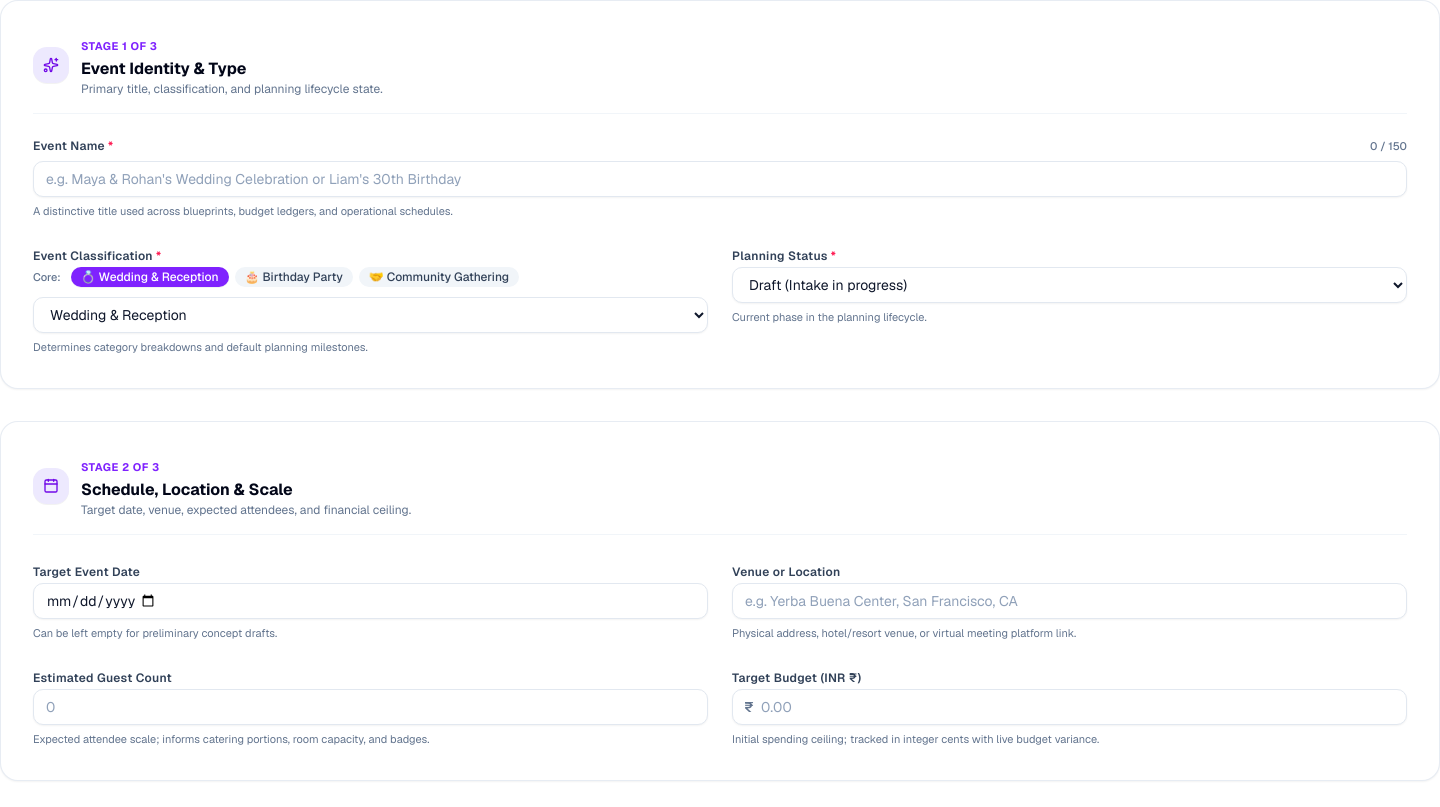
Test: EventForm Component › Interactive User Input & State Transitions › reveals custom event type input when 'other' is selected and hides when reverted
expect the field labelled "Custom Event Type Description" is not shown: met
Step 1. Select "Other / Custom" in the dropdown labelled "Event Classification *" → (370, 315), box x1=33 y1=297 x2=708 y2=333
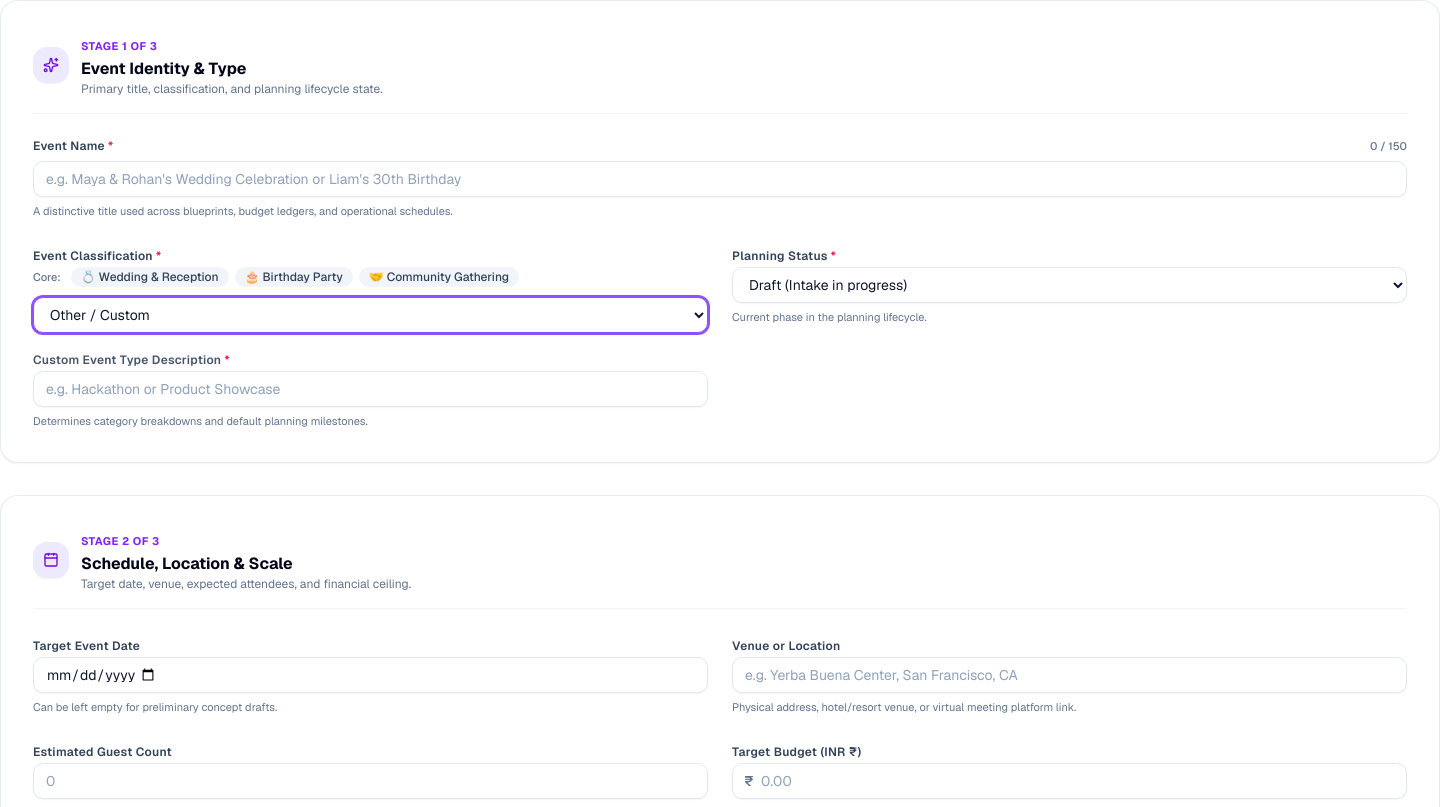
expect the field labelled "Custom Event Type Description *" is shown: met
Step 2. Type "Esports Tournament" into the field labelled "Custom Event Type Description *" → (370, 389), box x1=33 y1=371 x2=708 y2=407
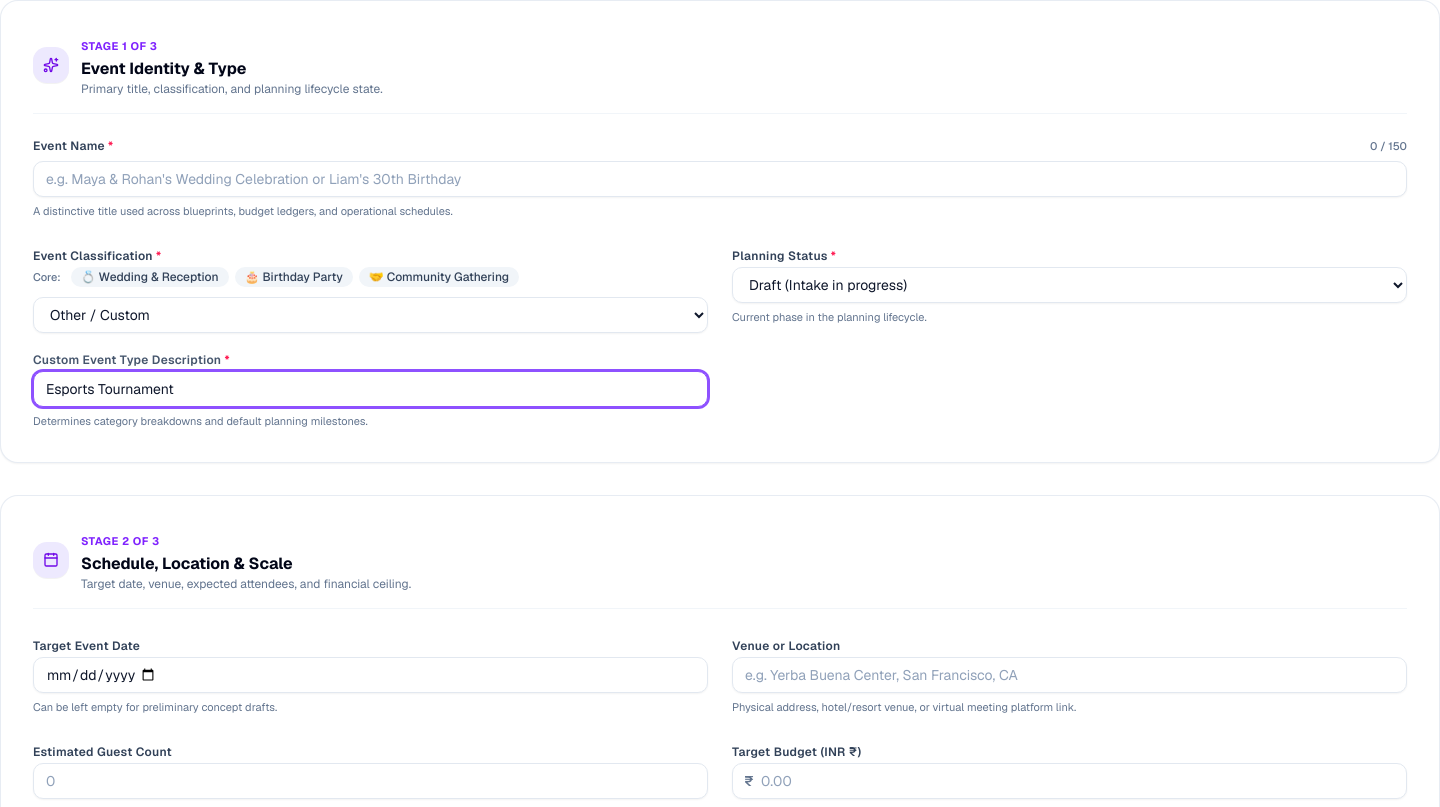
Step 3. Select "Conference & Summit" in the dropdown labelled "Event Classification *" → (370, 315), box x1=33 y1=297 x2=708 y2=333
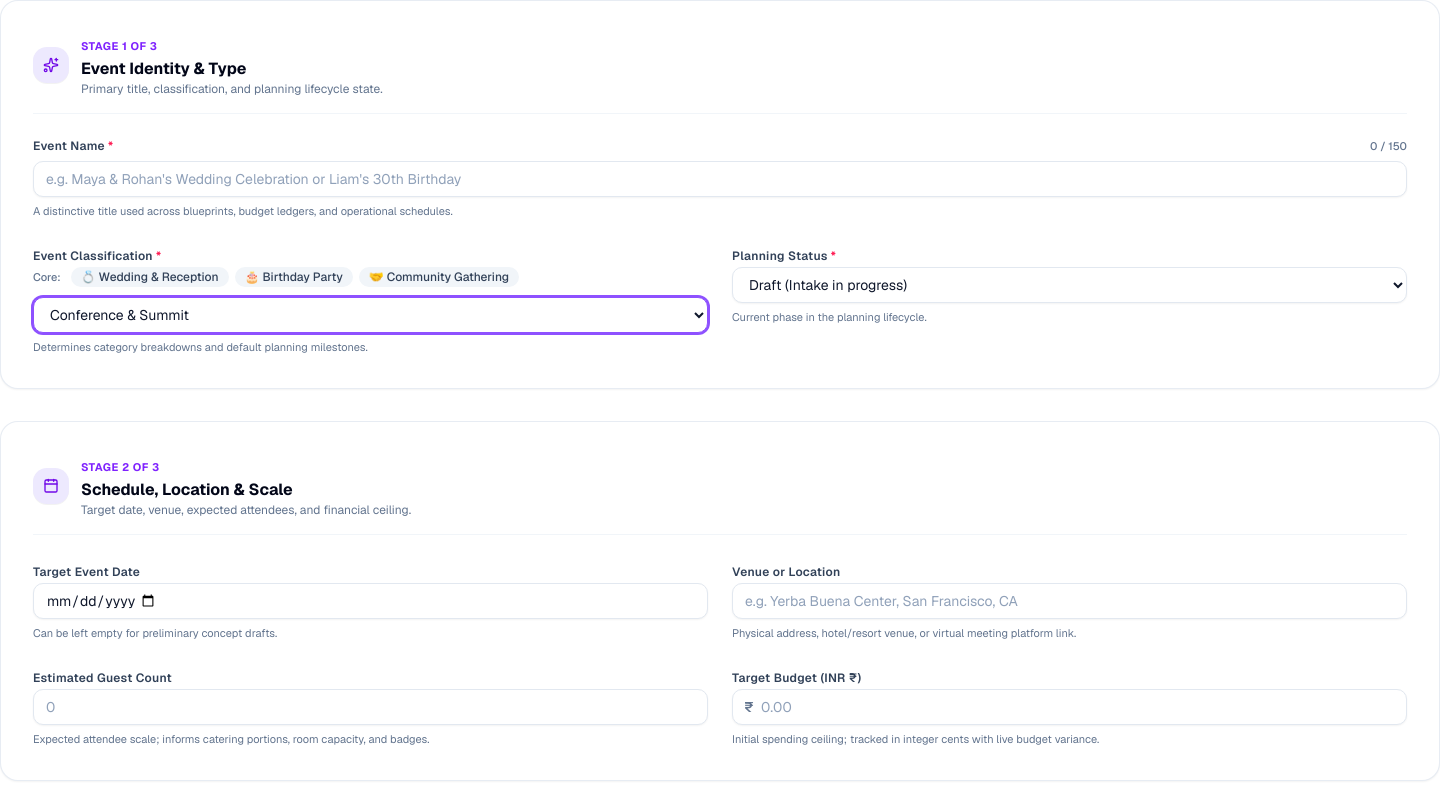
expect the label labelled "Custom Event Type Description" is gone: met
